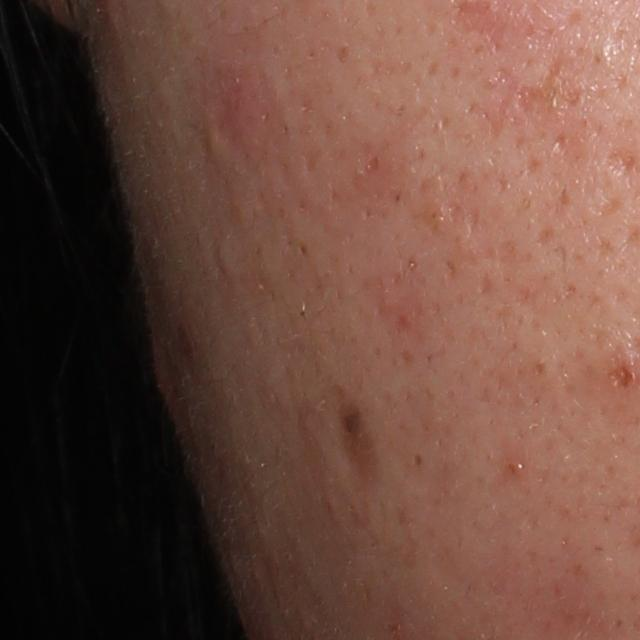atrophic_scar: (512, 56, 584, 129), (339, 407, 369, 486), (176, 110, 215, 169), (604, 147, 638, 180)
comedo: (405, 447, 427, 473)
